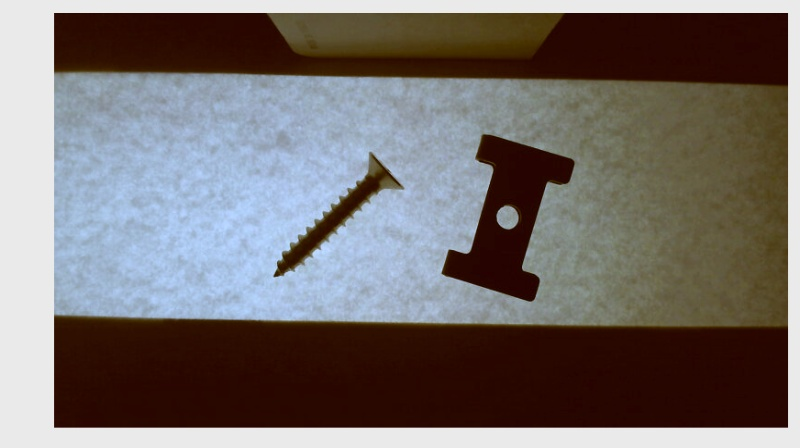O002: (443, 133, 577, 302)
S001: (272, 153, 405, 281)
